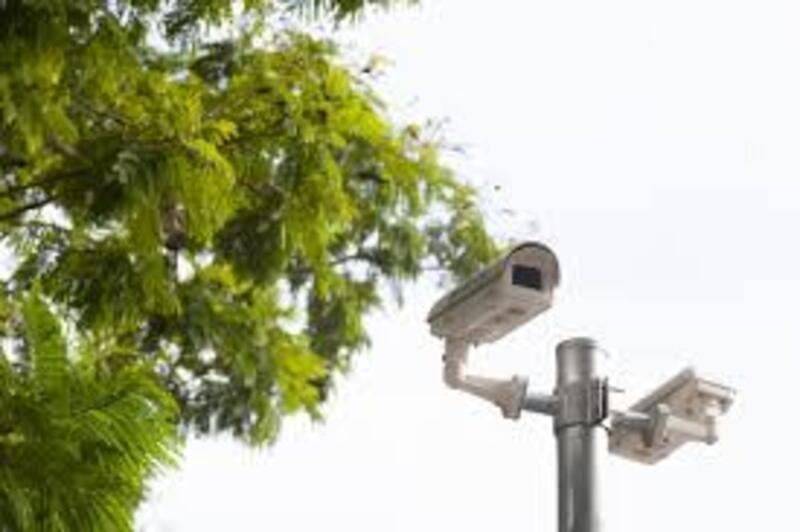box: (413, 297, 556, 378)
